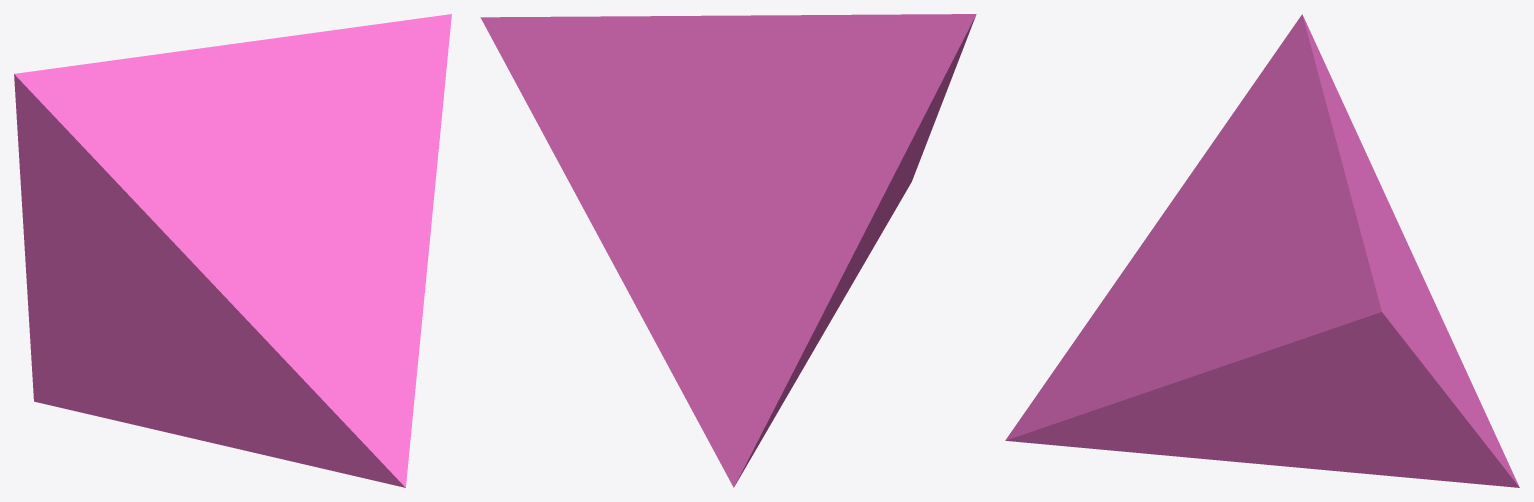
Rendered from InfoObras_Roma.gltf.
3 renders of one model, left to right at view 1: azimuth 30°, elevation 25°; view 2: azimuth 150°, elevation 25°; view 3: azimuth 270°, elevation 25°, orthographic. The views are drawn at different scales.
Parts seen in each view (by area): view 1: InfoObras_Roma; view 2: InfoObras_Roma; view 3: InfoObras_Roma.
Part boxes in pixels (x1,y1,x2,y2): InfoObras_Roma: (14, 14, 451, 487); InfoObras_Roma: (480, 14, 976, 487); InfoObras_Roma: (1005, 14, 1519, 487).
Bounding box in the file's own units: 0.2771 × 0.2466 × 0.2793.
